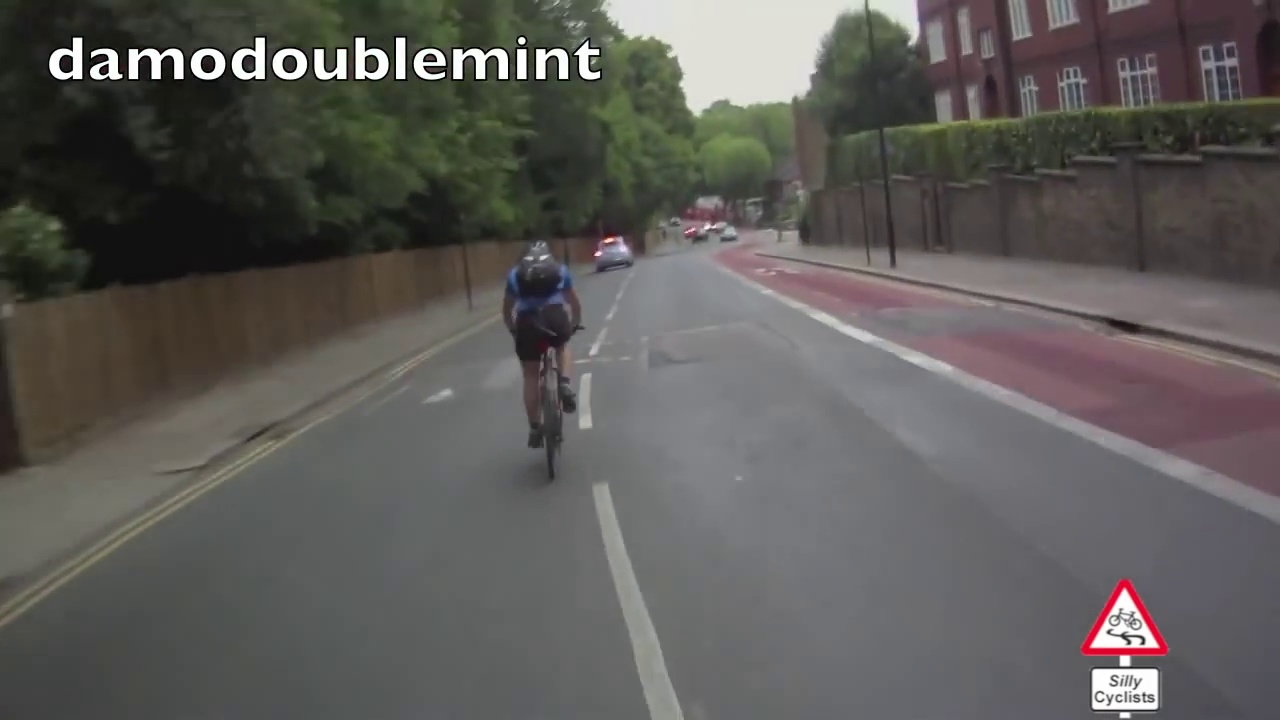cyclist_back: (504, 235, 590, 490)
